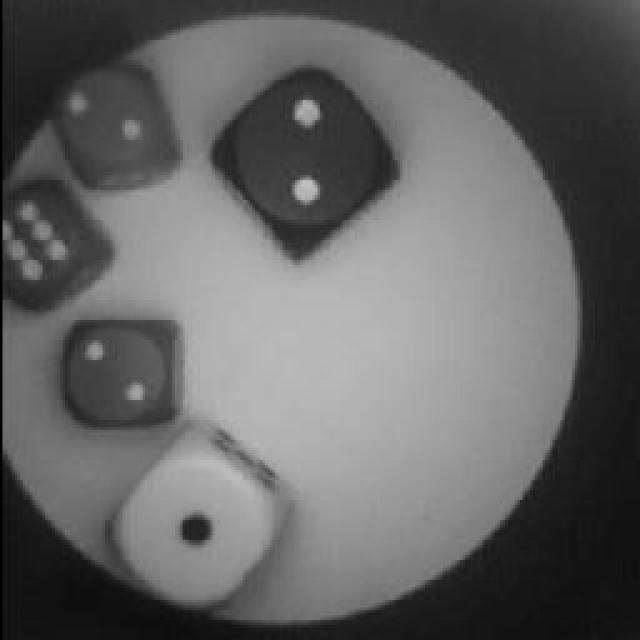dice_1: (103, 437, 285, 605)
dice_2: (210, 60, 398, 260), (48, 55, 178, 185), (62, 310, 188, 432)
dice_6: (0, 170, 115, 305)
